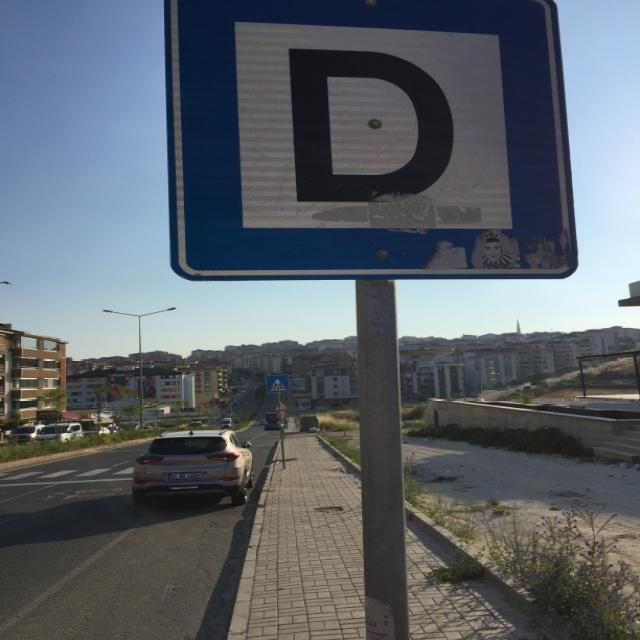durak: (163, 1, 578, 282)
